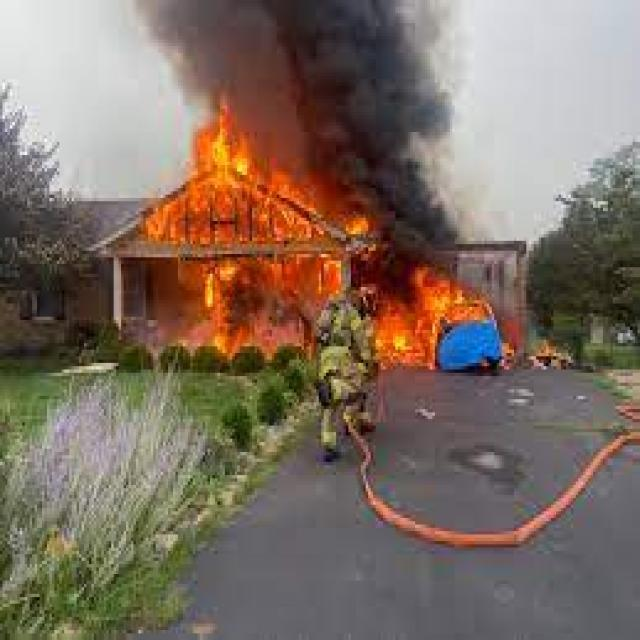Fire: (154, 118, 296, 342), (384, 252, 444, 374)
Smoke: (240, 0, 462, 244)
